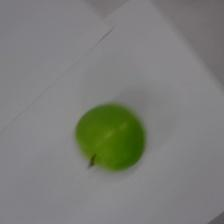green: (73, 101, 146, 172)
